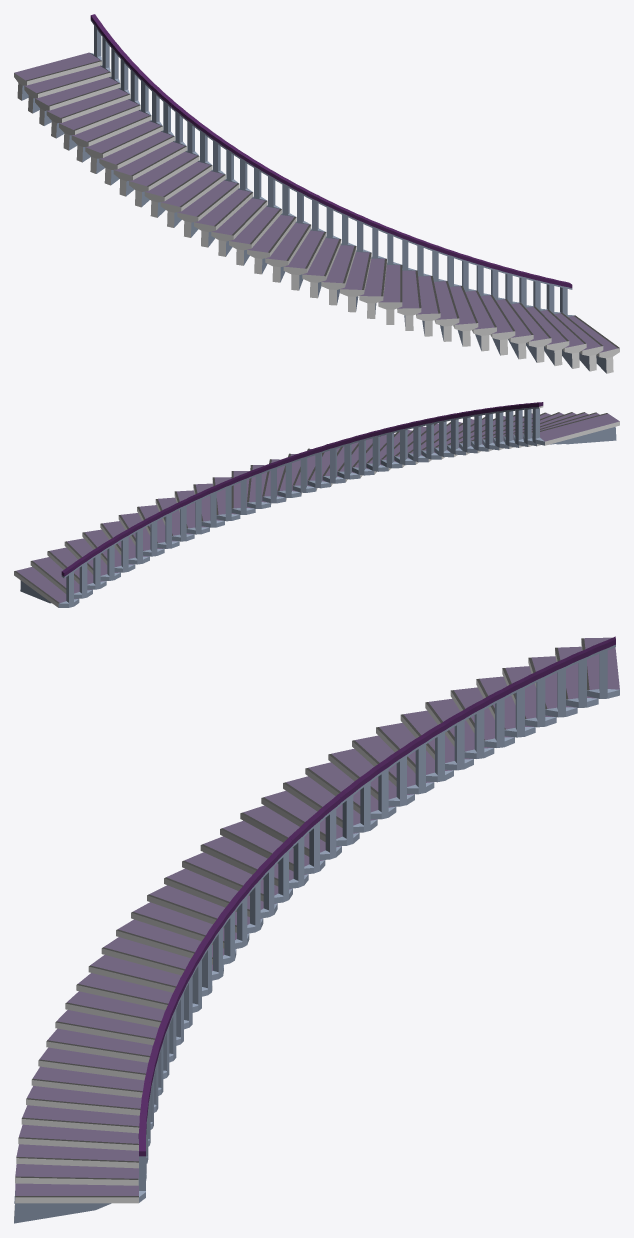
The model's file is MainInterierLestnica.fbx.
3 views of the same model, one above another, from view 1: azimuth 30°, elevation 25°; view 2: azimuth 210°, elevation 25°; view 3: azimuth 270°, elevation 25° (orthographic). The views are drawn at different scales.
Parts seen in each view (by area): view 1: Lestnica; view 2: Lestnica; view 3: Lestnica.
Boxes of the visible parts, <box> form: Lestnica: <box>14,14,619,373</box>; Lestnica: <box>14,402,619,607</box>; Lestnica: <box>14,636,619,1223</box>.
Size of the model in its own units: 2075 by 1386 by 2006.
